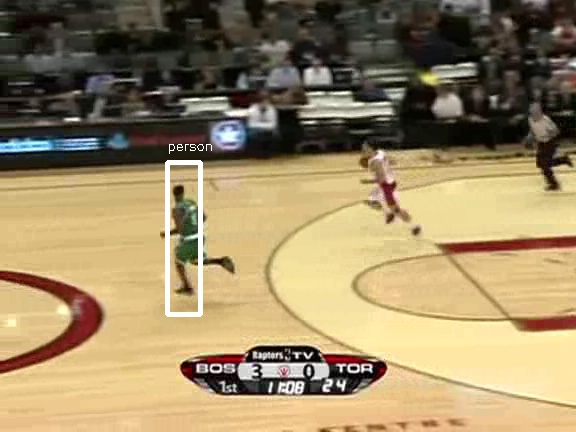person: (175, 192, 209, 273), (174, 192, 208, 273), (176, 192, 210, 273), (175, 191, 209, 272), (175, 193, 209, 274)
target_negative: (140, 145, 487, 290), (147, 78, 285, 332), (86, 179, 214, 283), (278, 250, 360, 399), (161, 333, 372, 355), (324, 301, 425, 302)
